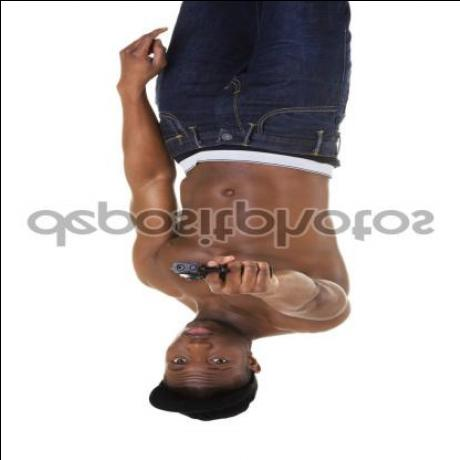1: (116, 4, 356, 418)
weapon: (172, 246, 242, 288)
